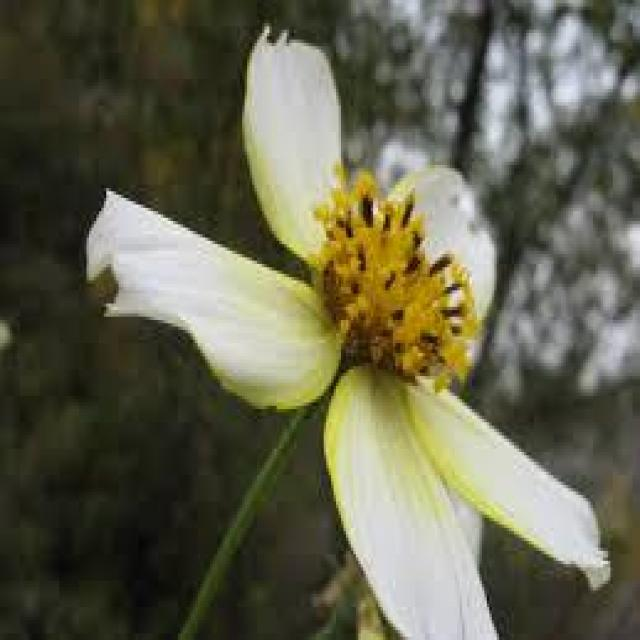organic waste: (82, 26, 610, 624)
